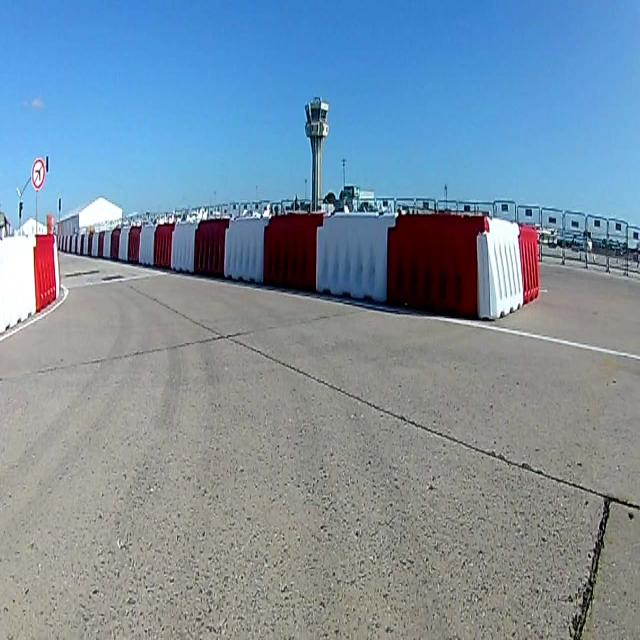soladonulmez: (32, 156, 44, 190)
